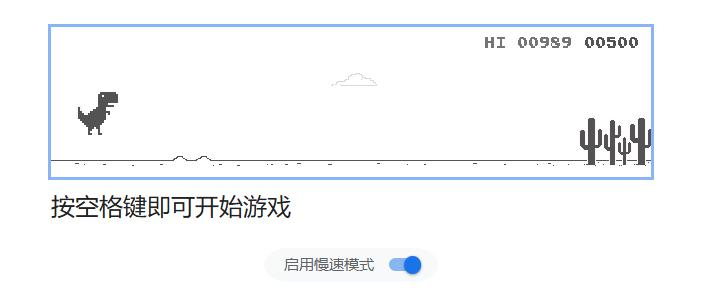cactus: (578, 114, 652, 168)
dino: (73, 90, 120, 137)
